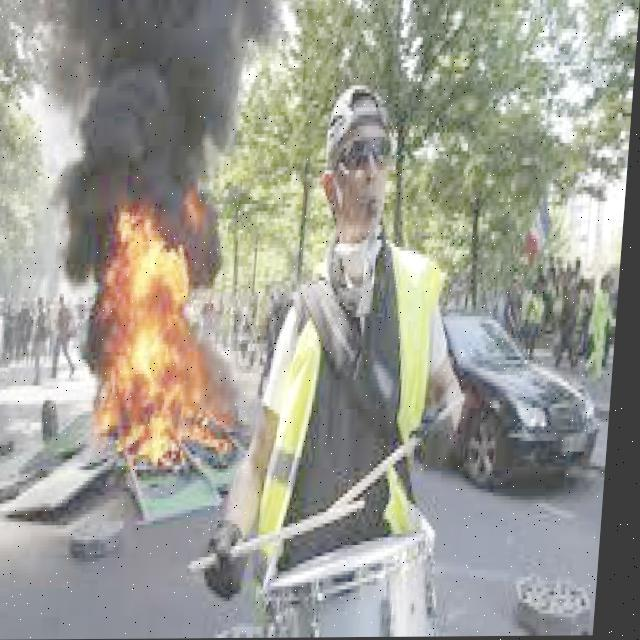Fire: (70, 197, 262, 463)
